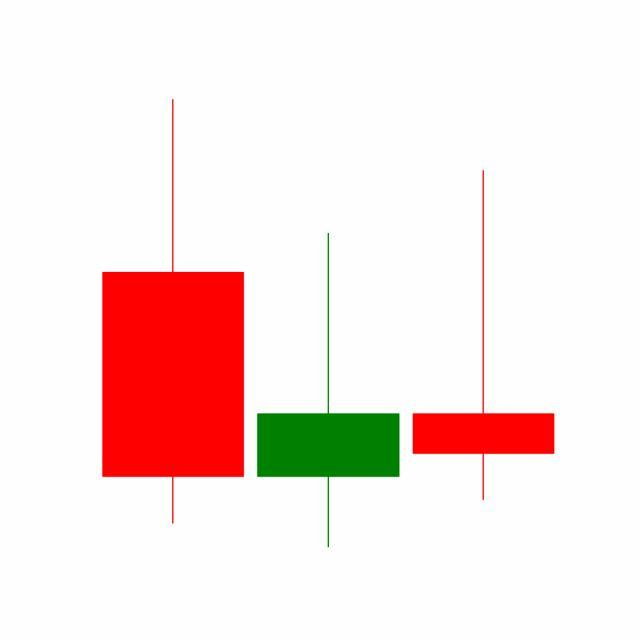Spinning Top: (250, 230, 407, 552)
